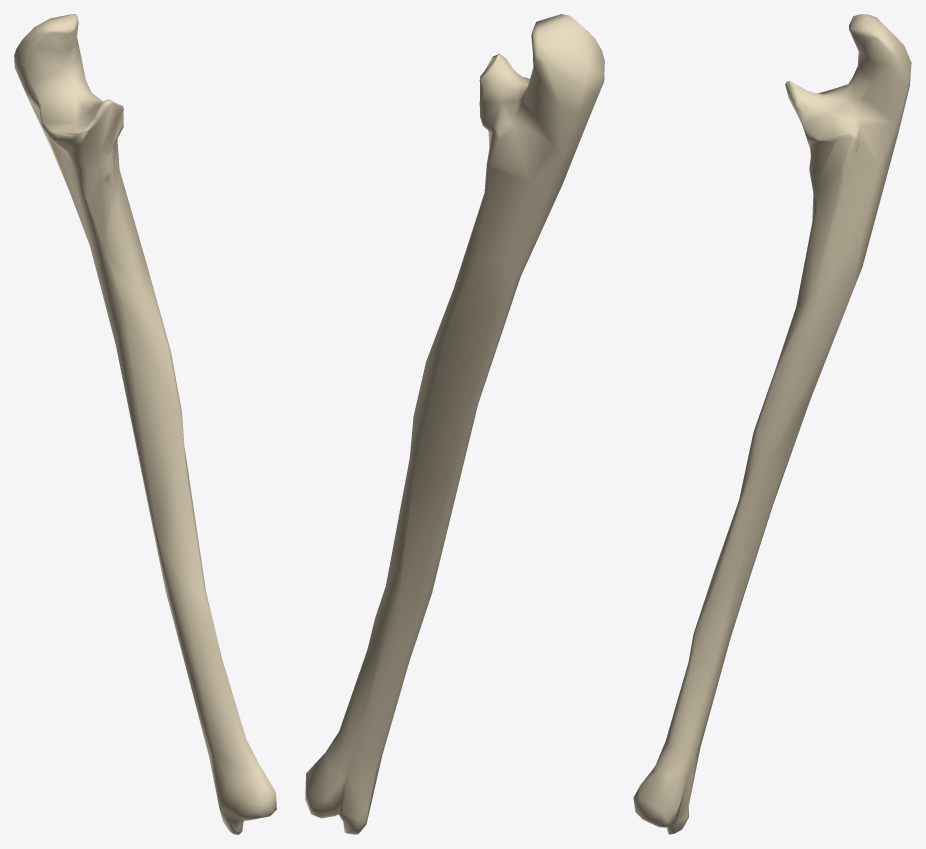
File: esqueleto-ulna-l.glb
The picture shows the model from 3 angles, left to right: view 1: azimuth 30°, elevation 25°; view 2: azimuth 210°, elevation 25°; view 3: azimuth 270°, elevation 25°; orthographic projection. The views are drawn at different scales.
Parts seen in each view (by area): view 1: Ulna.l; view 2: Ulna.l; view 3: Ulna.l.
Part boxes in pixels (box(x1,y1,x2,y2)): Ulna.l: box(14, 14, 276, 834); Ulna.l: box(305, 14, 604, 834); Ulna.l: box(633, 14, 911, 834).
Bounding box in the file's own units: 0.0524 × 0.2554 × 0.0832.
